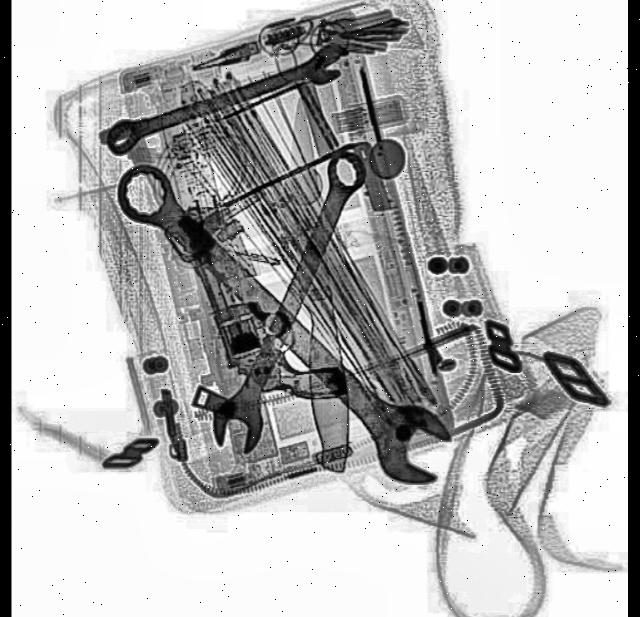Gun: (189, 187, 348, 432)
Knife: (284, 96, 356, 470)
Wrench: (102, 142, 466, 503), (202, 137, 384, 462), (102, 35, 352, 156)
